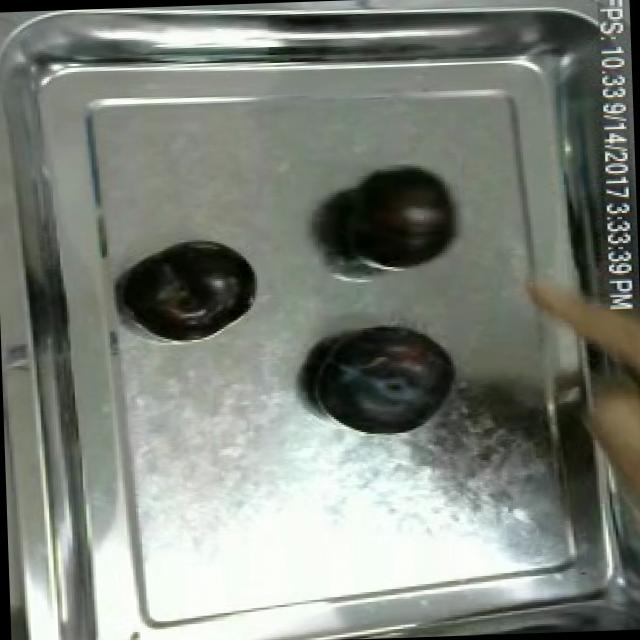Fruit: (300, 318, 463, 442), (324, 159, 462, 274), (118, 232, 263, 339)
